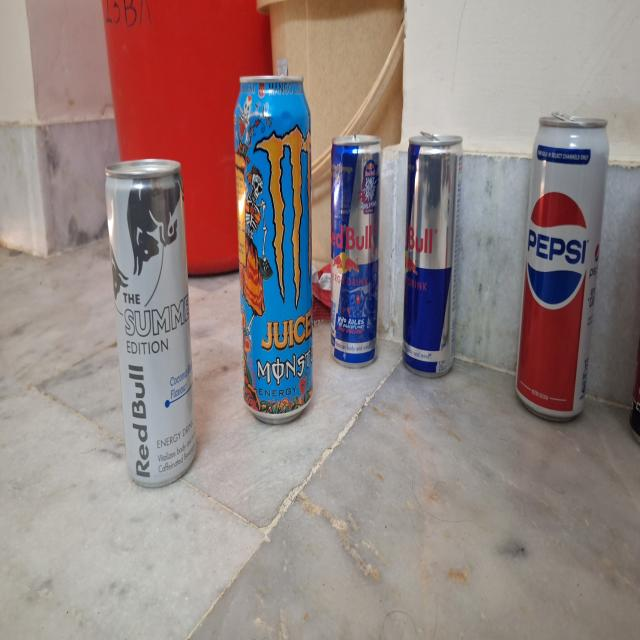Monster Mango Loco: (233, 71, 315, 426)
Pepsi Retro: (504, 115, 613, 423)
Redbul: (405, 127, 459, 374)
Redbull DanceYourStyle: (328, 138, 379, 368)
Redbull Summer Edition: (102, 148, 199, 490)
